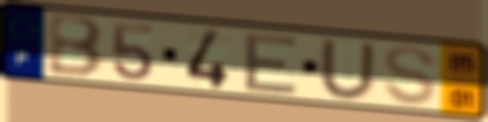4: (183, 26, 232, 91)
5: (110, 19, 156, 82)
B: (45, 15, 106, 81)
E: (241, 32, 300, 96)
S: (381, 44, 439, 108)
U: (317, 38, 378, 103)
